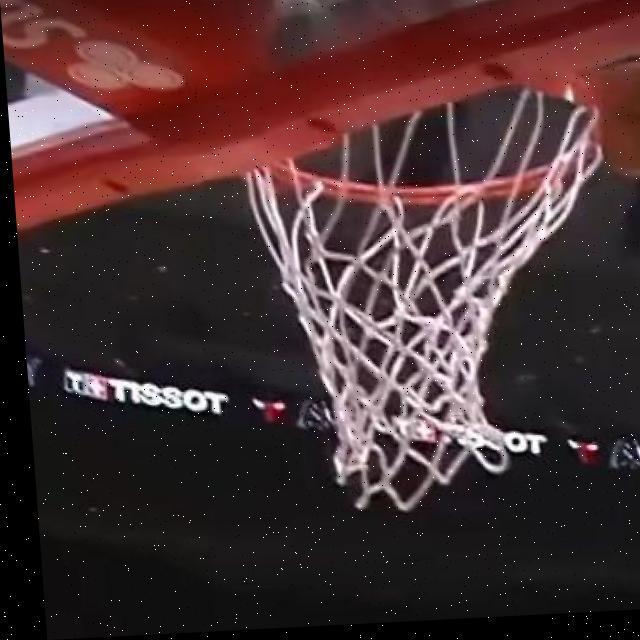hoop: (266, 103, 580, 481)
